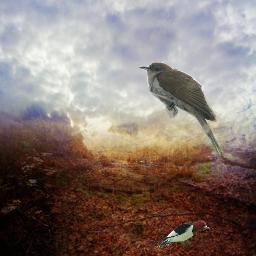Cuckoo: (139, 62, 224, 158)
Woodpecker: (155, 218, 212, 251)
